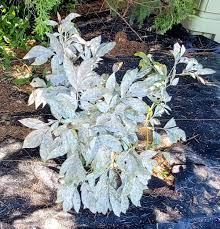powdery_mildew: (20, 17, 196, 214)
